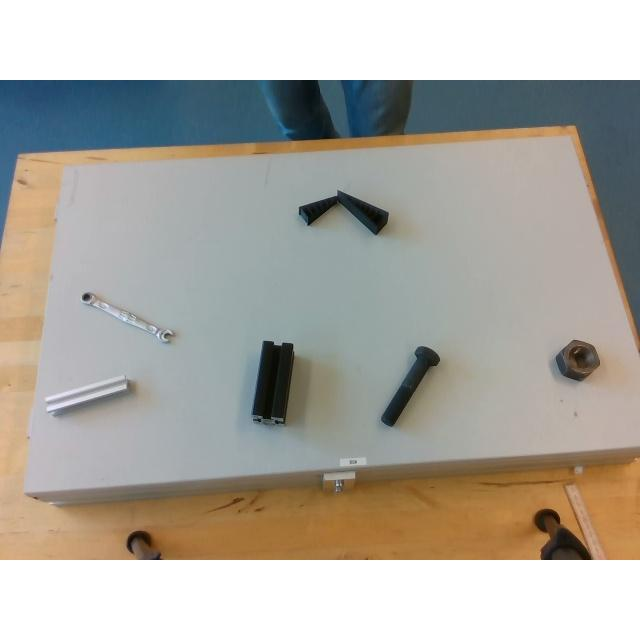F20_20_G: (45, 375, 131, 413)
M20_100: (380, 346, 440, 426)
M30: (555, 340, 599, 380)
S40_40_B: (252, 340, 292, 422)
Wrench: (80, 292, 174, 341)
